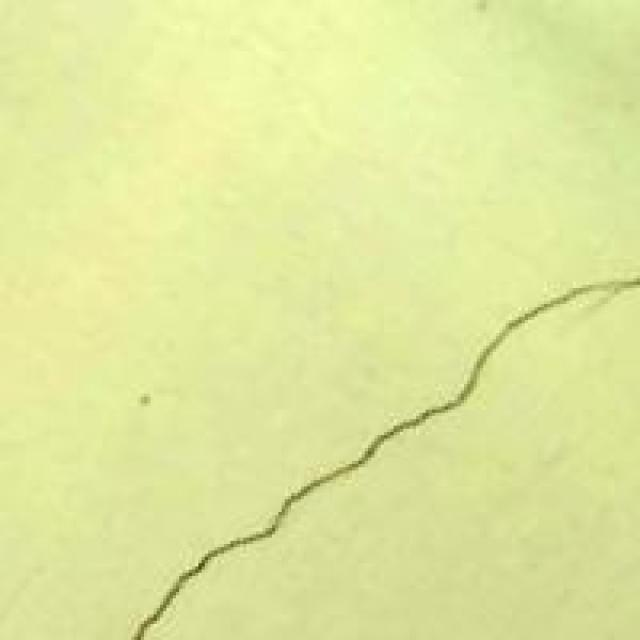crack: (125, 272, 630, 637)
